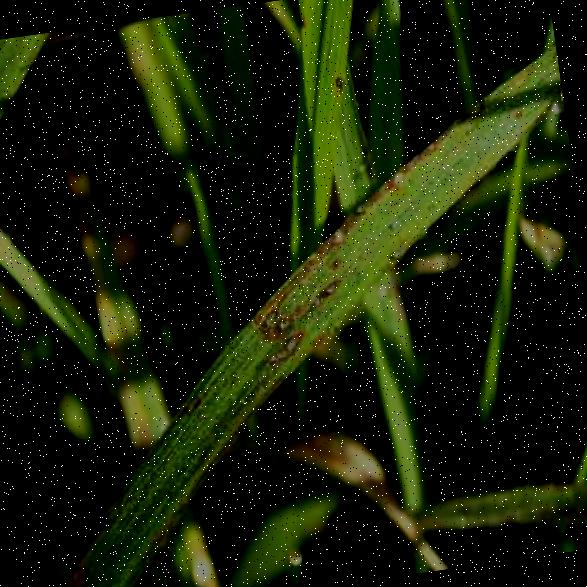Leaf_smut: (254, 314, 324, 379), (307, 268, 363, 318), (245, 293, 288, 343)
